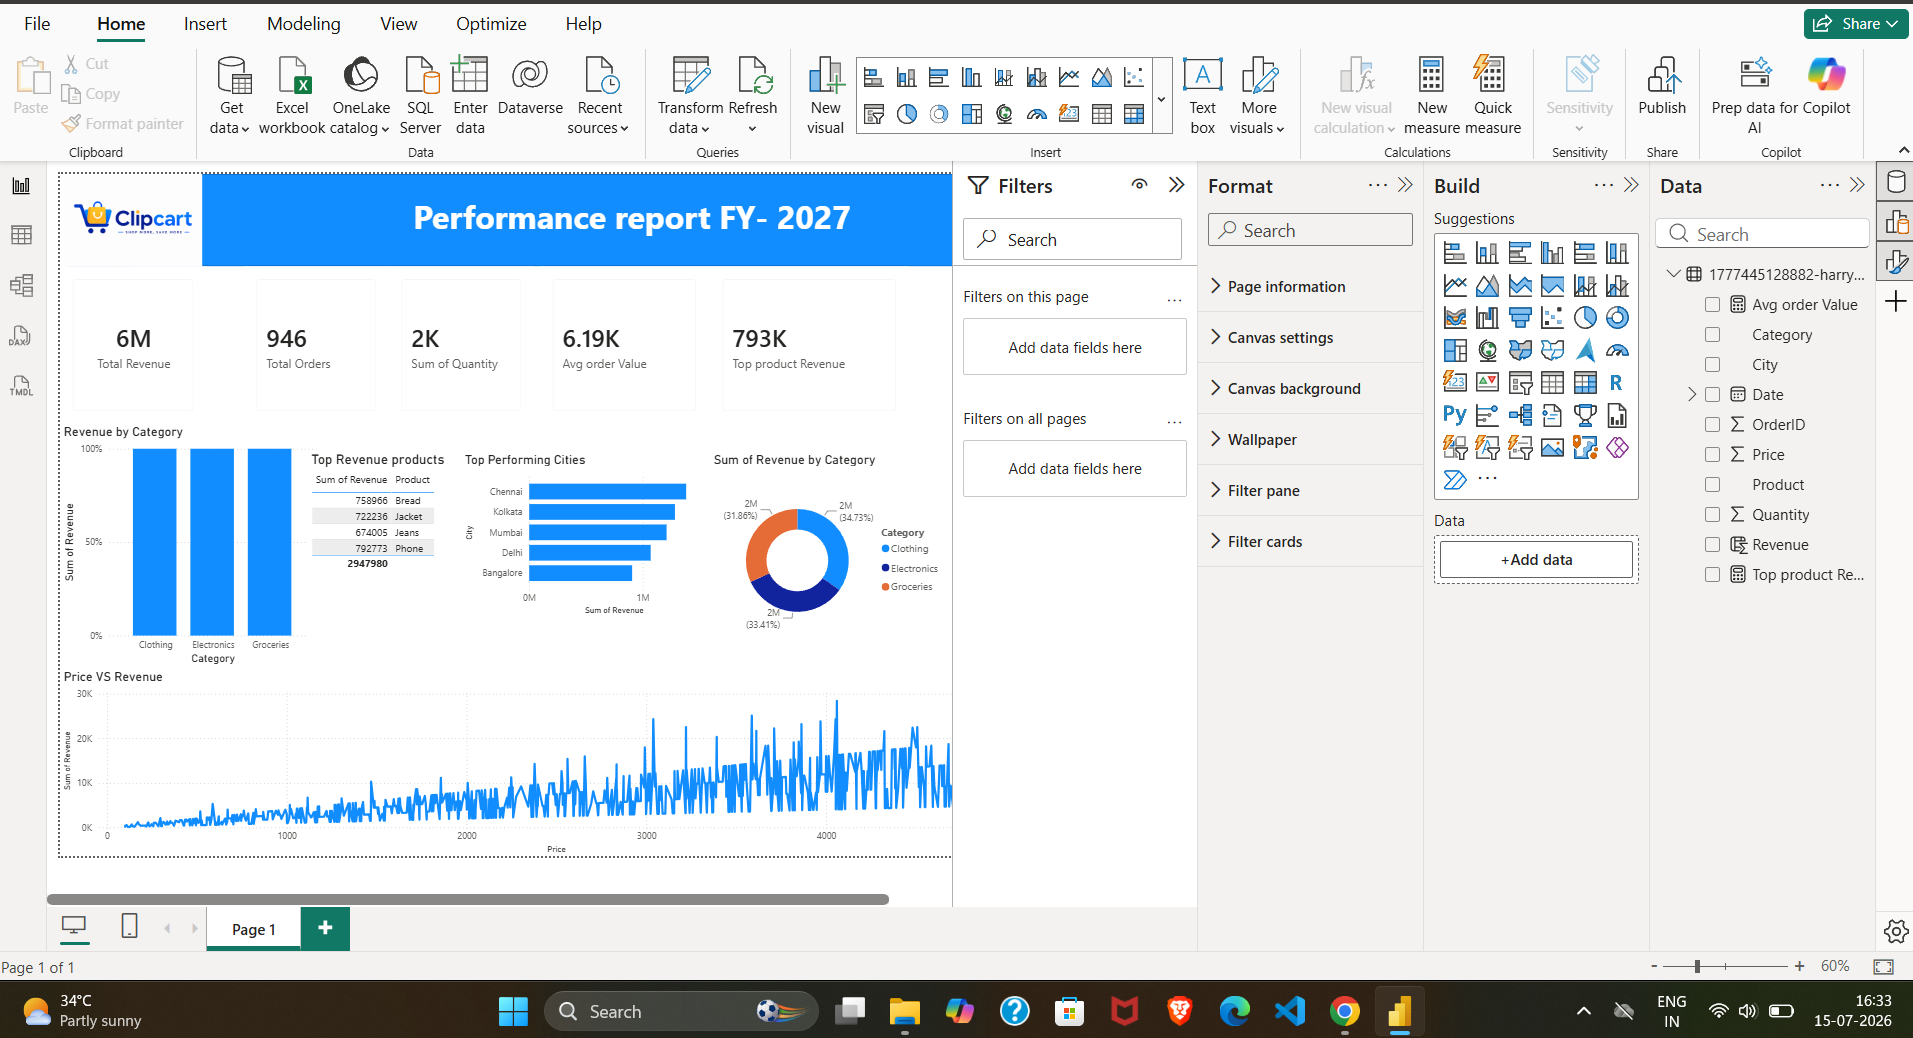

The dashboard page shown, as its layout file describes it:
{"tool":"powerbi","page":{"name":"Page 1","canvas":[1280,910],"ordinal":0},"visuals":[{"type":"shape","box":[10.7,0,1269,122.8],"z":0},{"type":"image","box":[0,0,195,123.3],"z":1000},{"type":"textbox","box":[444.9,21.4,635.4,71.2],"z":2000},{"type":"cardVisual","fields":{"Data":["Sum(1777445128882-harrykart_ecommerce_data.Revenue)"]},"box":[0,123.3,195,210],"z":3000},{"type":"lineChart","title":"Price VS Revenue","fields":{"Y":["Sum(1777445128882-harrykart_ecommerce_data.Revenue)"],"Category":["1777445128882-harrykart_ecommerce_data.Price"]},"box":[0,659.4,1279.7,251.3],"z":4000},{"type":"hundredPercentStackedColumnChart","title":"Revenue by Category","fields":{"Category":["1777445128882-harrykart_ecommerce_data.Category"],"Y":["Sum(1777445128882-harrykart_ecommerce_data.Revenue)"]},"box":[0,333.3,347.5,326.2],"z":5000},{"type":"tableEx","title":"Top Revenue products","fields":{"Values":["Sum(1777445128882-harrykart_ecommerce_data.Revenue)","1777445128882-harrykart_ecommerce_data.Product"]},"box":[330,370,230,256.7],"z":5001},{"type":"cardVisual","fields":{"Data":["CountNonNull(1777445128882-harrykart_ecommerce_data.Revenue)"]},"box":[245,123.3,193.3,210],"z":5002},{"type":"cardVisual","fields":{"Data":["Sum(1777445128882-harrykart_ecommerce_data.Quantity)"]},"box":[438.3,123.3,193.3,210],"z":5003},{"type":"clusteredBarChart","title":"Top Performing Cities","fields":{"Category":["1777445128882-harrykart_ecommerce_data.City"],"Y":["Sum(1777445128882-harrykart_ecommerce_data.Revenue)"]},"box":[535,370,331.7,223.3],"z":5004},{"type":"cardVisual","fields":{"Data":["1777445128882-harrykart_ecommerce_data.Avg order Value"]},"box":[640,123.3,225,210],"z":5005},{"type":"donutChart","fields":{"Category":["1777445128882-harrykart_ecommerce_data.Category"],"Y":["Sum(1777445128882-harrykart_ecommerce_data.Revenue)"]},"box":[866.7,370,318.3,271.7],"z":5006},{"type":"cardVisual","fields":{"Data":["1777445128882-harrykart_ecommerce_data.Top product Revenue"]},"box":[866.7,123.3,265,210],"z":5007}]}

Visuals, with their boxes on the page's 1280x910 design canvas (x1, y1, x2, y2). These are canvas units, not pixel positions in the 1913x1038 screenshot, which may show the page scaled, cropped or inside an application window:
shape: l=11, t=0, r=1280, b=123
image: l=0, t=0, r=195, b=123
textbox: l=445, t=21, r=1080, b=93
cardVisual - Sum(1777445128882-harrykart_ecommerce_data.Revenue): l=0, t=123, r=195, b=333
"Price VS Revenue" lineChart: l=0, t=659, r=1280, b=911
"Revenue by Category" hundredPercentStackedColumnChart: l=0, t=333, r=348, b=660
"Top Revenue products" tableEx: l=330, t=370, r=560, b=627
cardVisual - CountNonNull(1777445128882-harrykart_ecommerce_data.Revenue): l=245, t=123, r=438, b=333
cardVisual - Sum(1777445128882-harrykart_ecommerce_data.Quantity): l=438, t=123, r=632, b=333
"Top Performing Cities" clusteredBarChart: l=535, t=370, r=867, b=593
cardVisual - 1777445128882-harrykart_ecommerce_data.Avg order Value: l=640, t=123, r=865, b=333
donutChart - 1777445128882-harrykart_ecommerce_data.Category x Sum(1777445128882-harrykart_ecommerce_data.Revenue): l=867, t=370, r=1185, b=642
cardVisual - 1777445128882-harrykart_ecommerce_data.Top product Revenue: l=867, t=123, r=1132, b=333
